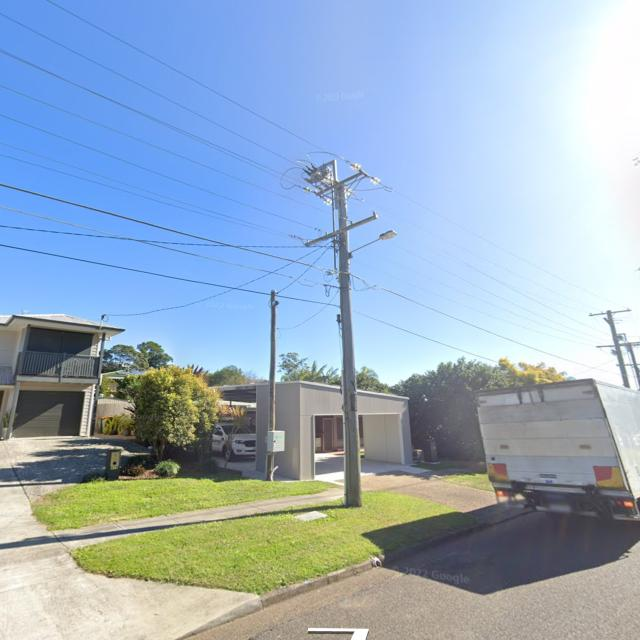HV-switch: (300, 162, 332, 190)
HV-transmission: (588, 306, 634, 379), (302, 163, 378, 204)
crossarm: (303, 213, 379, 247), (317, 170, 370, 200), (588, 308, 631, 317), (596, 344, 632, 348)
streetlight: (347, 228, 398, 257)
timber-pole: (336, 184, 364, 508), (268, 288, 280, 485), (606, 310, 628, 388)
